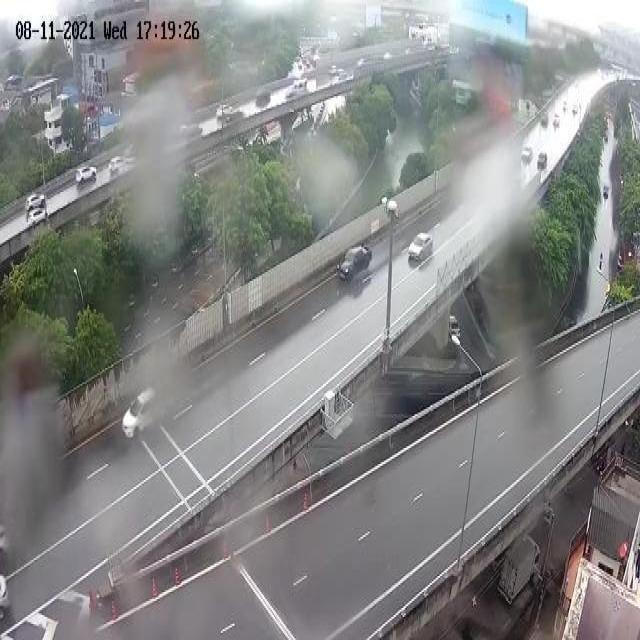Car: (121, 387, 162, 440), (408, 234, 433, 262), (447, 313, 462, 341), (75, 164, 96, 184), (25, 192, 45, 212), (27, 209, 47, 227), (110, 154, 125, 176), (216, 104, 231, 120), (521, 145, 533, 163), (537, 151, 547, 171)
Truck: (498, 534, 540, 607), (338, 242, 372, 283)
